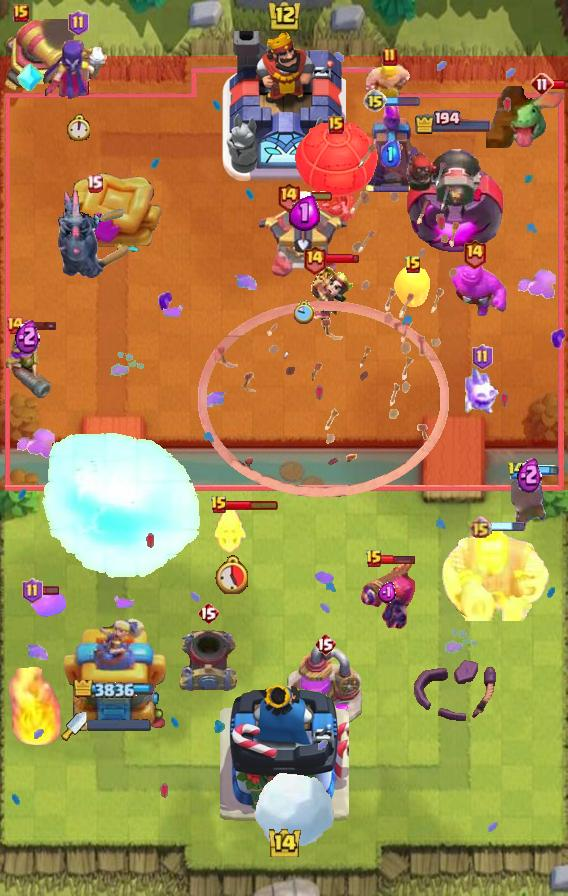archer: (366, 61, 414, 105)
axe: (40, 40, 116, 102)
bar: (61, 615, 166, 731)
bat-evolution: (213, 501, 249, 555)
bomb-tower: (0, 324, 56, 402), (511, 472, 547, 532)
bomber-evolution: (306, 263, 354, 331)
cannon-cart: (294, 123, 378, 225)
electro-spirit: (288, 195, 319, 231), (16, 317, 41, 355), (518, 455, 543, 493), (381, 140, 401, 168), (379, 581, 398, 602)
electro-wizard: (486, 86, 568, 148)
elixir: (216, 554, 249, 594), (66, 114, 90, 141), (293, 300, 314, 324)
emote: (225, 499, 279, 511), (385, 95, 421, 107), (298, 190, 334, 202), (324, 253, 360, 265), (22, 319, 58, 331), (489, 521, 525, 533), (380, 554, 415, 566), (524, 465, 559, 476), (40, 584, 59, 595), (552, 78, 568, 90)
giant-skeleton: (440, 527, 550, 621)
golemite: (58, 187, 130, 281)
hog: (393, 265, 433, 309)
ice-spirit-evolution-symbol: (361, 102, 421, 194)
king-tower: (219, 678, 349, 826), (222, 31, 346, 181)
king-tower-bar: (87, 719, 151, 731)
lava-pup: (258, 197, 350, 279)
mega-knight: (39, 432, 205, 582)
mega-minion: (358, 557, 416, 631)
miner: (31, 589, 67, 619)
mirror: (462, 365, 502, 417)
musketeer: (177, 627, 239, 695)
pad_2: (16, 60, 44, 94)
pekka: (286, 645, 364, 727)
royal-recruit: (0, 19, 78, 95)
selected: (414, 110, 494, 135), (73, 680, 155, 698)
skeleton-barrel: (197, 140, 461, 500)
text: (302, 245, 327, 276), (275, 181, 300, 211), (462, 238, 486, 269), (530, 72, 554, 96), (363, 89, 387, 113), (67, 10, 89, 36), (21, 578, 43, 604), (472, 344, 493, 370), (468, 517, 491, 540), (197, 601, 219, 625), (314, 632, 336, 656), (5, 315, 25, 335), (507, 461, 526, 480), (404, 255, 422, 275), (210, 495, 228, 515), (365, 549, 383, 569), (85, 175, 103, 193), (382, 47, 398, 67), (13, 4, 29, 22), (328, 116, 344, 134)
tornado: (440, 262, 508, 318)
tower-bar: (401, 138, 505, 256)
valkyrie: (9, 664, 67, 750)
wall-breaker: (253, 771, 337, 849)
